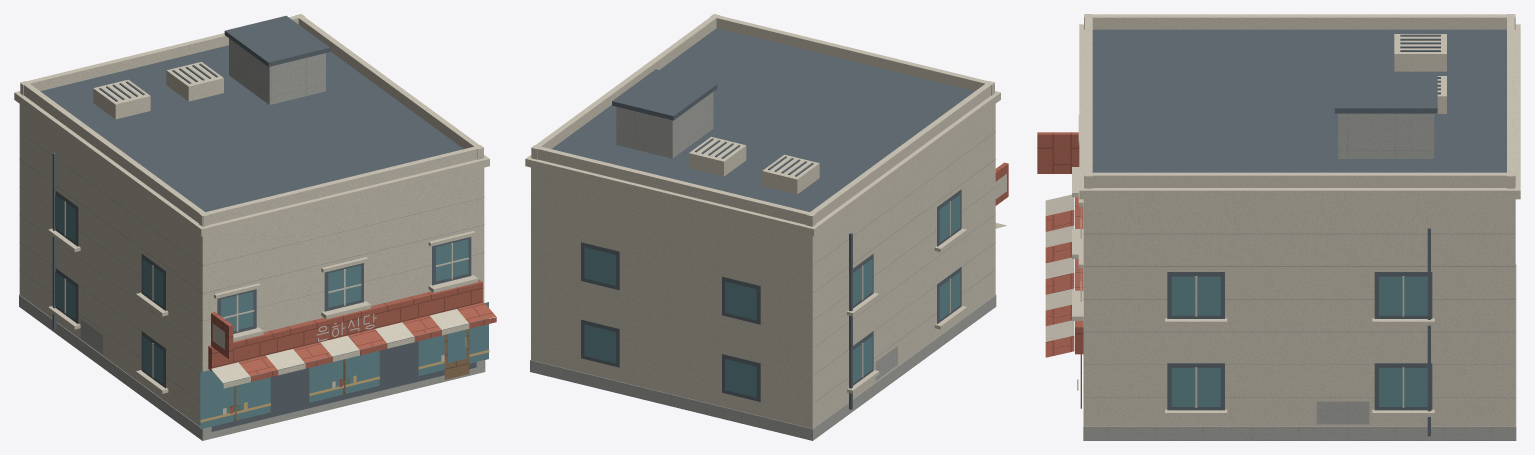
The model's file is q01-diner.glb.
3 views of the same model, side by side, from view 1: azimuth 30°, elevation 25°; view 2: azimuth 150°, elevation 25°; view 3: azimuth 270°, elevation 25° (orthographic). The views are drawn at different scales.
Size of the model in its own units: 8.34 by 7.01 by 10.07.
9 materials, 8 textured.
